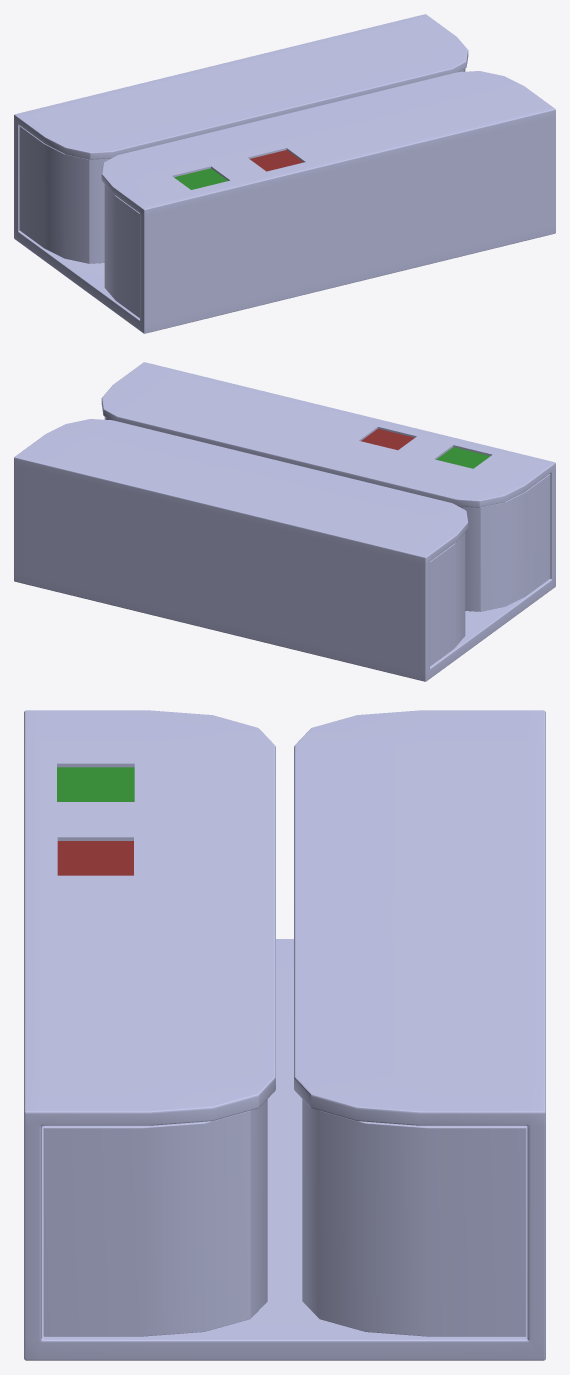
The model's file is keycardswiper_mesh.fbx.
3 renders of one model, top to bottom at view 1: azimuth 30°, elevation 25°; view 2: azimuth 150°, elevation 25°; view 3: azimuth 270°, elevation 25°, orthographic. The views are drawn at different scales.
Visible parts, largest first — view 1: swiper_mesh, button_green_mesh, button_red_mesh; view 2: swiper_mesh, button_green_mesh, button_red_mesh; view 3: swiper_mesh, button_green_mesh, button_red_mesh.
Part boxes in pixels (bbox=[...]): swiper_mesh: bbox=[14, 14, 555, 333]; button_green_mesh: bbox=[174, 168, 227, 189]; button_red_mesh: bbox=[250, 150, 303, 171]; swiper_mesh: bbox=[14, 362, 555, 681]; button_green_mesh: bbox=[436, 447, 490, 468]; button_red_mesh: bbox=[361, 429, 414, 450]; swiper_mesh: bbox=[24, 710, 545, 1360]; button_green_mesh: bbox=[57, 767, 134, 801]; button_red_mesh: bbox=[57, 841, 133, 875].
Bounding box in the file's own units: 7.56 × 2.18 × 4.14.
